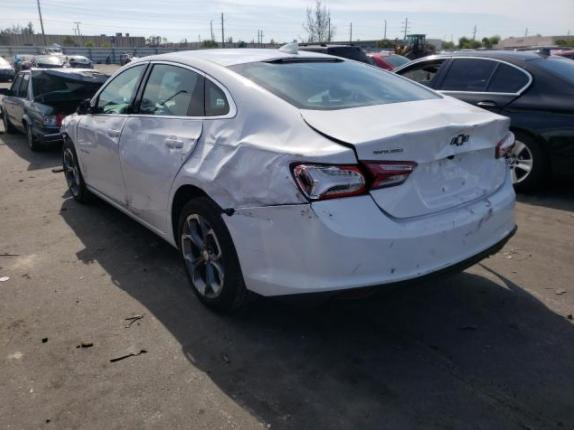Back-bumper: (222, 168, 517, 303)
Back-door: (119, 60, 206, 231)
Back-wheel: (177, 196, 264, 316)
Back-window: (137, 63, 205, 116), (204, 76, 228, 115)
Back-windshield: (227, 58, 442, 110)
Fender: (61, 115, 84, 178)
Front-door: (77, 60, 151, 207)
Front-wheel: (62, 136, 102, 205)
Front-window: (95, 64, 146, 113)
Mirror: (76, 98, 96, 115)
Quarter-panel: (166, 109, 358, 236)
Rocker-panel: (87, 185, 176, 245)
Roof: (156, 40, 342, 66)
Tail-light: (291, 162, 367, 202), (359, 161, 415, 190), (496, 130, 514, 157)
Trunk: (225, 57, 514, 220)
